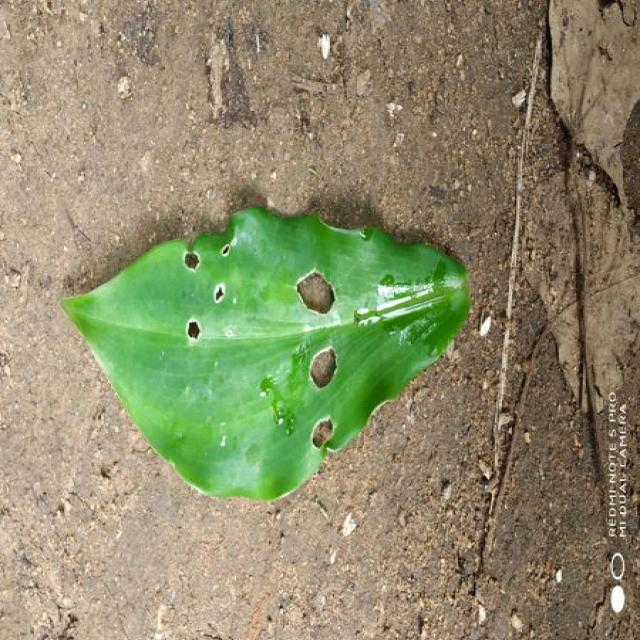insulin: (62, 208, 470, 499)
leaf spot: (72, 209, 457, 498)
